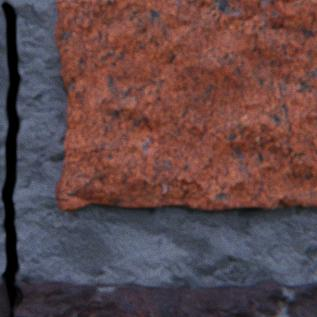brick: (54, 0, 316, 211)
broken_brick: (0, 278, 316, 316)
crack: (0, 1, 21, 314)
